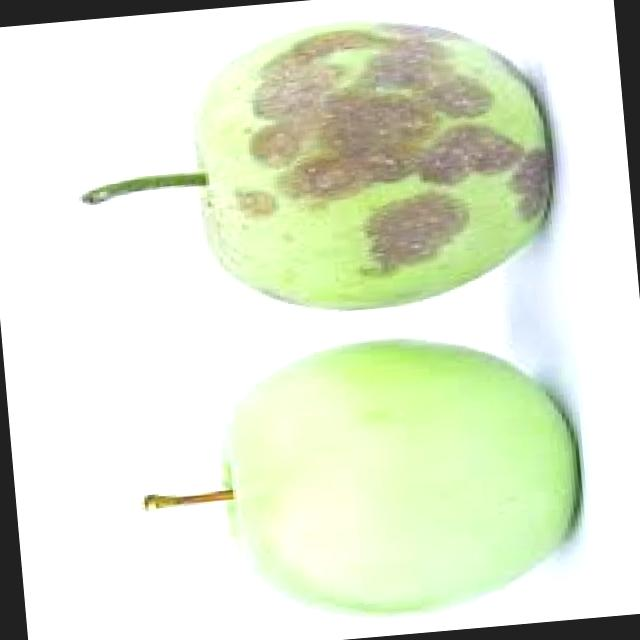Green Juicy Apple: (212, 320, 592, 634)
Rotten Apple: (181, 6, 567, 325)
